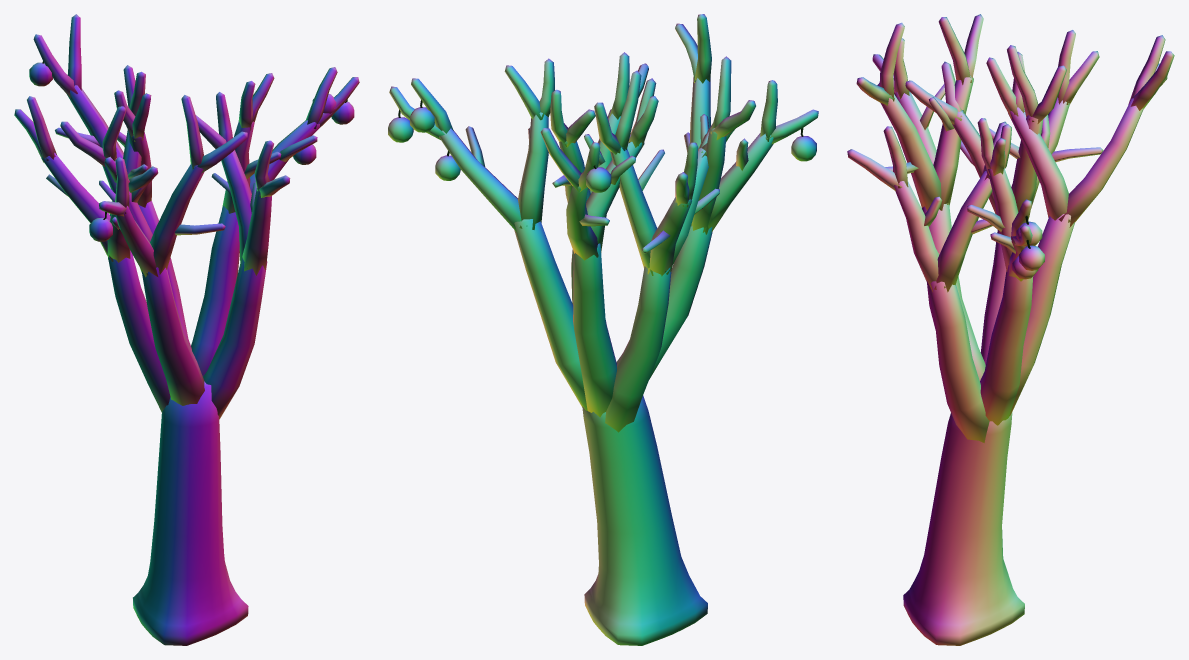
The model's file is SM_Foliage_March_CharredOrchard_B.fbx.
3 views of the same model, side by side, from view 1: azimuth 30°, elevation 25°; view 2: azimuth 150°, elevation 25°; view 3: azimuth 270°, elevation 25° (orthographic). The views are drawn at different scales.
Visible parts, largest first — view 1: SM_Foliage_March_CharredOrchard_B; view 2: SM_Foliage_March_CharredOrchard_B; view 3: SM_Foliage_March_CharredOrchard_B.
Boxes of the visible parts, box(x1,y1,x2,y2) form: SM_Foliage_March_CharredOrchard_B: box(14, 14, 359, 645); SM_Foliage_March_CharredOrchard_B: box(388, 14, 818, 645); SM_Foliage_March_CharredOrchard_B: box(847, 14, 1174, 645).
Size of the model in its own units: 1.84 by 2.91 by 1.49.
